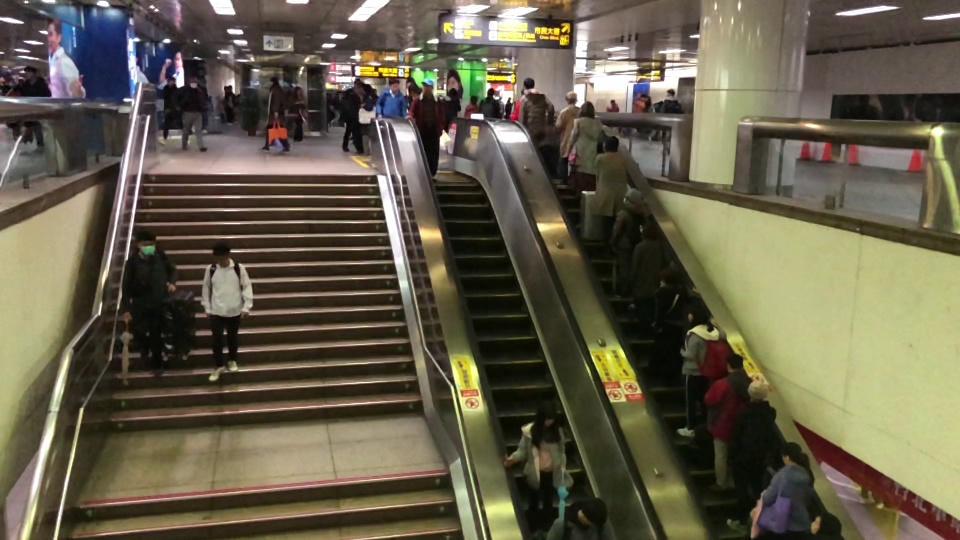person_head: (578, 498, 609, 529), (742, 376, 769, 407), (534, 402, 559, 432), (721, 347, 746, 375), (134, 229, 157, 259), (774, 444, 802, 467), (210, 241, 231, 269), (688, 303, 710, 325), (622, 186, 642, 209), (601, 134, 621, 154), (560, 90, 579, 110), (420, 79, 435, 101), (580, 101, 596, 121), (22, 65, 40, 82), (640, 221, 656, 240), (349, 81, 364, 99), (385, 78, 400, 96), (661, 85, 676, 101), (187, 73, 199, 92), (467, 92, 480, 109), (801, 452, 811, 472), (265, 76, 280, 89), (676, 277, 688, 293), (407, 85, 421, 98), (522, 79, 536, 92), (164, 76, 176, 88), (486, 88, 497, 99), (516, 91, 526, 100)
person_vbox: (195, 240, 256, 383), (722, 379, 782, 524), (497, 402, 574, 512), (118, 229, 179, 366), (670, 301, 729, 440), (699, 348, 751, 483), (753, 444, 814, 540), (596, 134, 654, 226), (606, 186, 652, 291), (667, 275, 711, 357), (413, 77, 448, 180), (566, 103, 604, 195), (550, 89, 582, 186), (19, 67, 54, 152), (542, 498, 612, 540), (256, 76, 294, 153), (517, 79, 556, 150), (798, 448, 826, 540), (181, 72, 212, 155), (632, 223, 662, 306), (338, 80, 370, 154), (158, 75, 185, 148), (656, 85, 681, 154), (374, 77, 405, 131), (401, 84, 424, 123), (482, 88, 503, 123), (505, 92, 530, 121), (461, 93, 485, 121)
